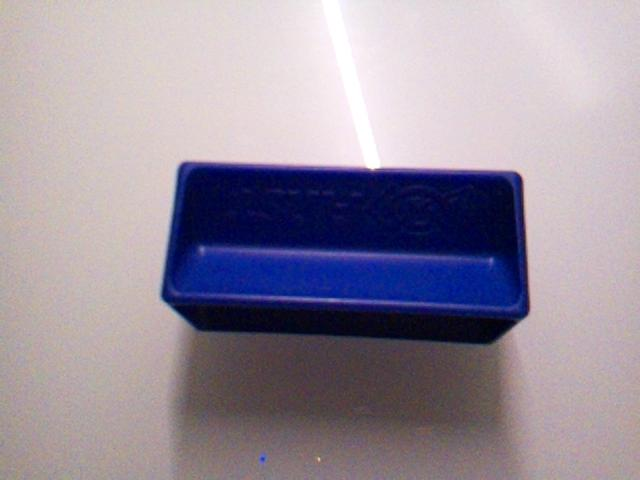blue: (160, 159, 531, 345)
